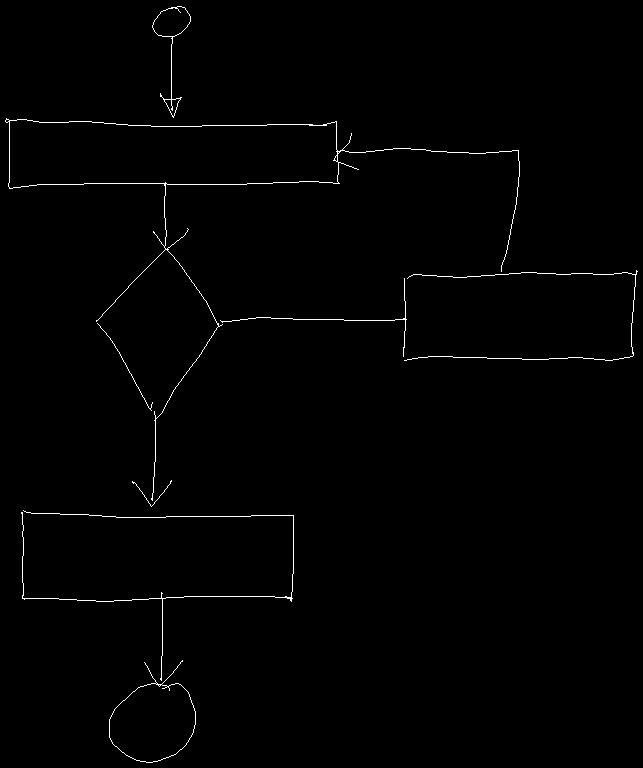arrow: (333, 133, 519, 271), (132, 411, 171, 506), (144, 592, 182, 686), (153, 182, 188, 249), (160, 37, 181, 117), (220, 317, 406, 322)
connection: (109, 683, 195, 762), (152, 6, 190, 36)
decision: (96, 249, 222, 420)
process: (21, 510, 293, 601), (5, 118, 339, 188), (403, 270, 637, 360)
